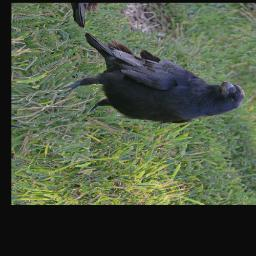Crow: (31, 7, 254, 145)
